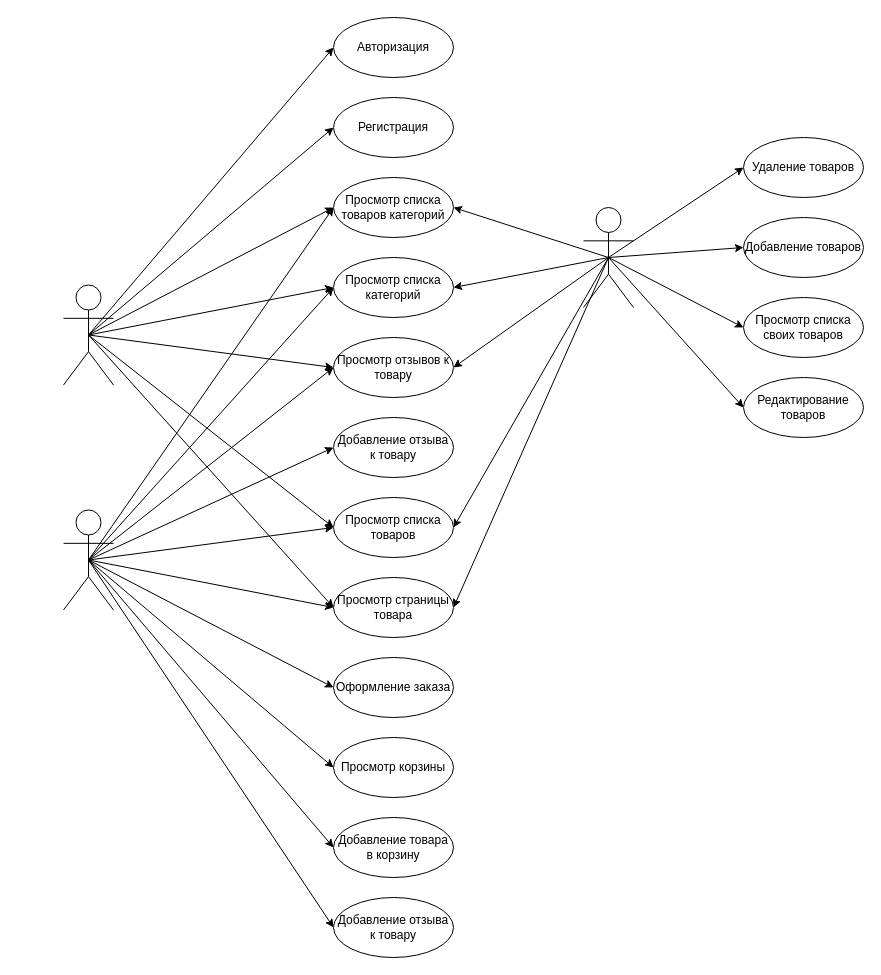
Image size: 881x975. Some labels were removed from this diagram. The centre of each missing label's shape, as x and y in pixels:
"Авторизованный пользователь" belongs at point (88, 559).
"Гость" belongs at point (88, 334).
"Продавец" belongs at point (608, 257).
